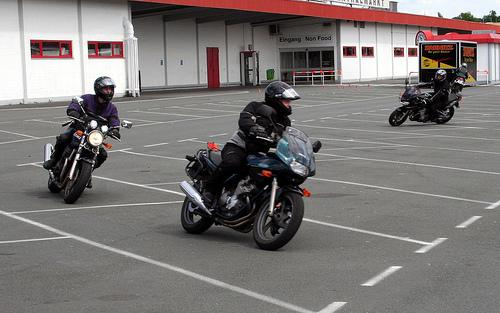motorbike: (179, 124, 327, 238), (43, 98, 131, 211), (383, 68, 466, 127)
